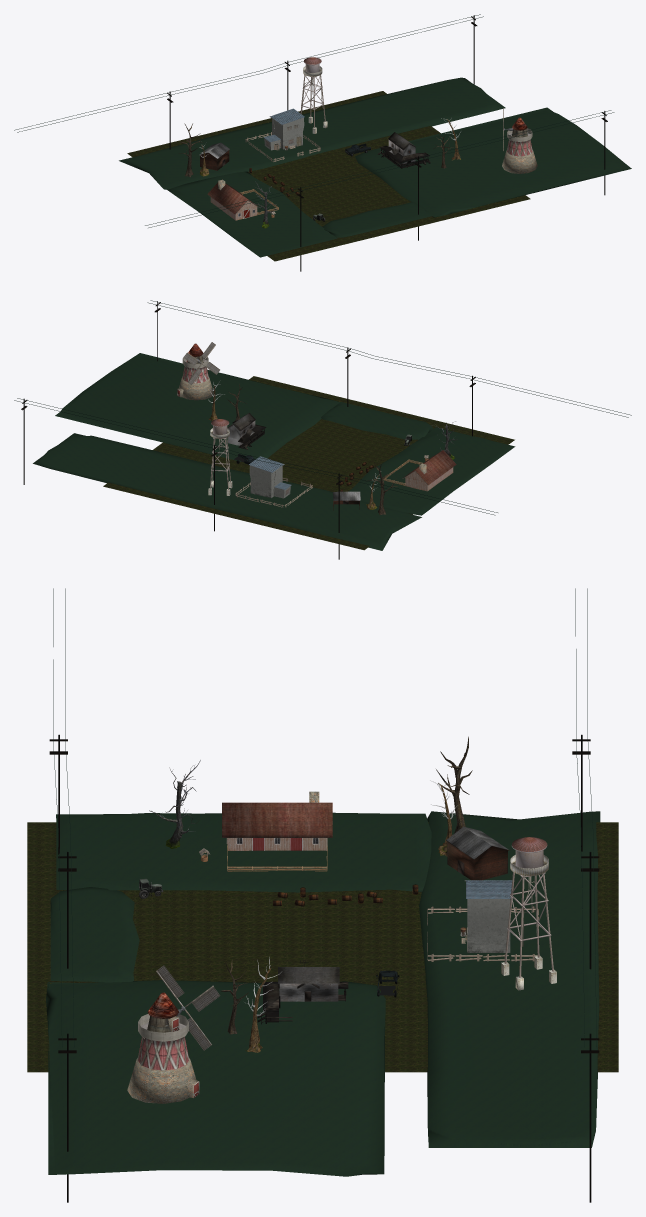
File: farm_stage.fbx
3 views of the same model, one above another, from view 1: azimuth 30°, elevation 25°; view 2: azimuth 150°, elevation 25°; view 3: azimuth 270°, elevation 25° (orthographic). The views are drawn at different scales.
Visible parts, largest first — view 1: polySurface1718, pPlane2, polySurface1756, fwindmill, polySurface1497, farm_house2, polySurface1758, polySurface1668, polySurface1754, polySurface1720; view 2: polySurface1718, pPlane2, polySurface1756, fwindmill, polySurface1758, farm_house2, polySurface1497, polySurface1754, polySurface1668, polySurface1720; view 3: polySurface1718, pPlane2, fwindmill, farm_house2, polySurface1756, polySurface1754, polySurface1668, polySurface1720, polySurface1758, polySurface1497, polySurface1752.
Part boxes in pixels (bbox=[...]): polySurface1718: bbox=[119, 77, 631, 257]; pPlane2: bbox=[127, 91, 530, 261]; polySurface1756: bbox=[245, 108, 320, 161]; fwindmill: bbox=[502, 108, 537, 173]; polySurface1497: bbox=[145, 110, 614, 271]; farm_house2: bbox=[207, 179, 278, 220]; polySurface1758: bbox=[14, 14, 483, 149]; polySurface1668: bbox=[377, 132, 430, 168]; polySurface1754: bbox=[300, 57, 327, 133]; polySurface1720: bbox=[200, 142, 229, 170]; polySurface1718: bbox=[33, 353, 515, 550]; pPlane2: bbox=[103, 376, 514, 550]; polySurface1756: bbox=[235, 456, 312, 507]; fwindmill: bbox=[177, 342, 219, 400]; polySurface1758: bbox=[14, 398, 497, 559]; farm_house2: bbox=[383, 450, 456, 491]; polySurface1497: bbox=[147, 300, 631, 436]; polySurface1754: bbox=[208, 419, 232, 495]; polySurface1668: bbox=[228, 413, 266, 449]; polySurface1720: bbox=[333, 491, 360, 510]; polySurface1718: bbox=[46, 811, 600, 1176]; pPlane2: bbox=[27, 822, 618, 1072]; fwindmill: bbox=[127, 965, 220, 1103]; farm_house2: bbox=[222, 791, 332, 871]; polySurface1756: bbox=[427, 880, 538, 961]; polySurface1754: bbox=[501, 837, 556, 990]; polySurface1668: bbox=[257, 960, 348, 1024]; polySurface1720: bbox=[446, 826, 509, 880]; polySurface1758: bbox=[572, 588, 599, 1202]; polySurface1497: bbox=[49, 588, 76, 1202]; polySurface1752: bbox=[149, 760, 200, 848].
Bounding box in the file's own units: 956 × 182 × 506.
